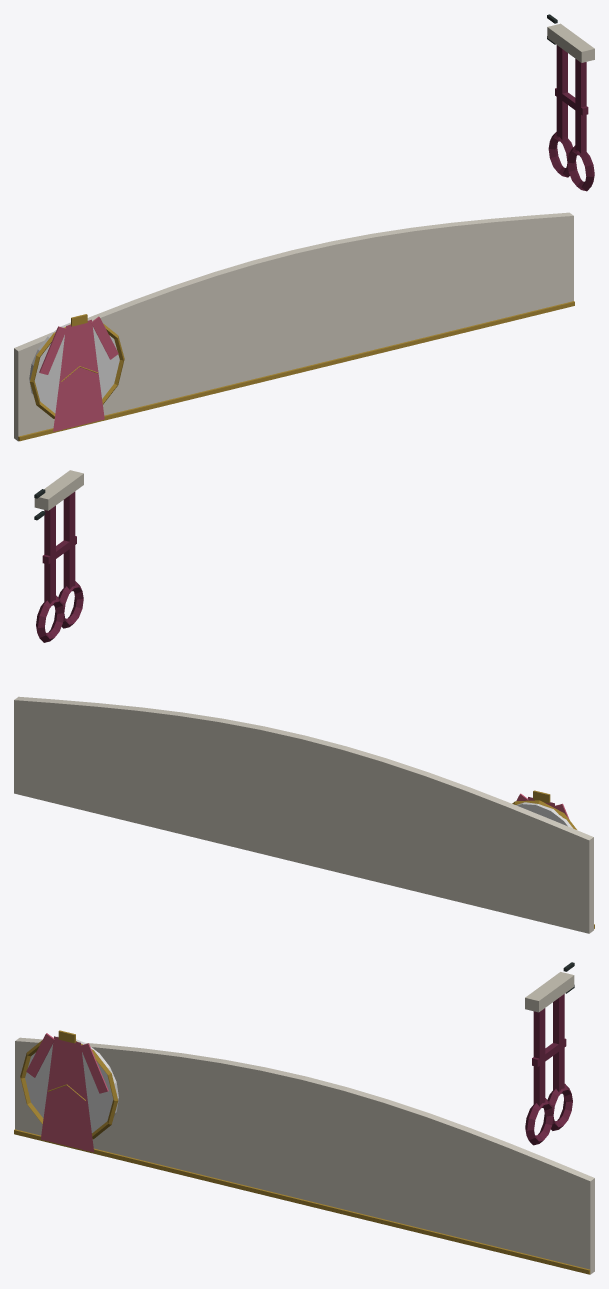
Rendered from bang_nha_may_thanh_thao_60.glb.
3 renders of one model, top to bottom at view 1: azimuth 30°, elevation 25°; view 2: azimuth 150°, elevation 25°; view 3: azimuth 330°, elevation 25°, orthographic. The views are drawn at different scales.
Visible parts, largest first — view 1: bang_nha_may_thanh_thao_60; view 2: bang_nha_may_thanh_thao_60; view 3: bang_nha_may_thanh_thao_60.
Boxes of the visible parts, bbox=[...] form: bang_nha_may_thanh_thao_60: bbox=[14, 14, 594, 441]; bang_nha_may_thanh_thao_60: bbox=[14, 470, 594, 933]; bang_nha_may_thanh_thao_60: bbox=[14, 962, 594, 1274].
Size of the model in its own units: 5.8 by 2.93 by 0.805.
